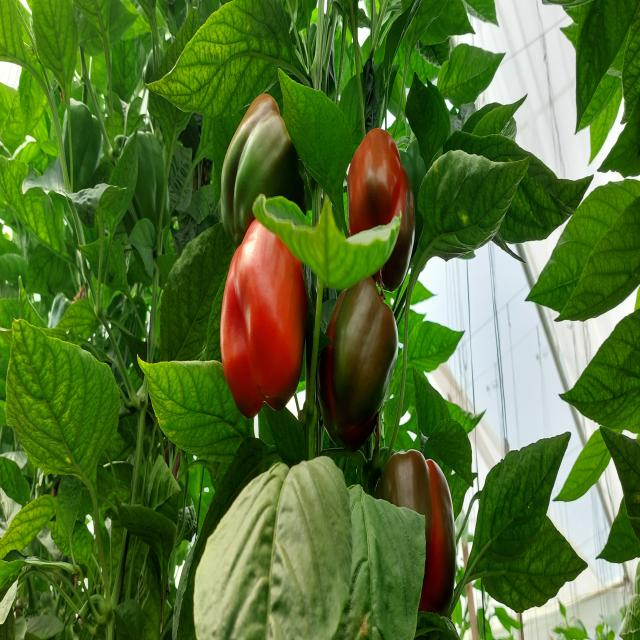Red-Ready-to-Harvest: (219, 224, 310, 424), (333, 112, 427, 278), (223, 78, 296, 210)
